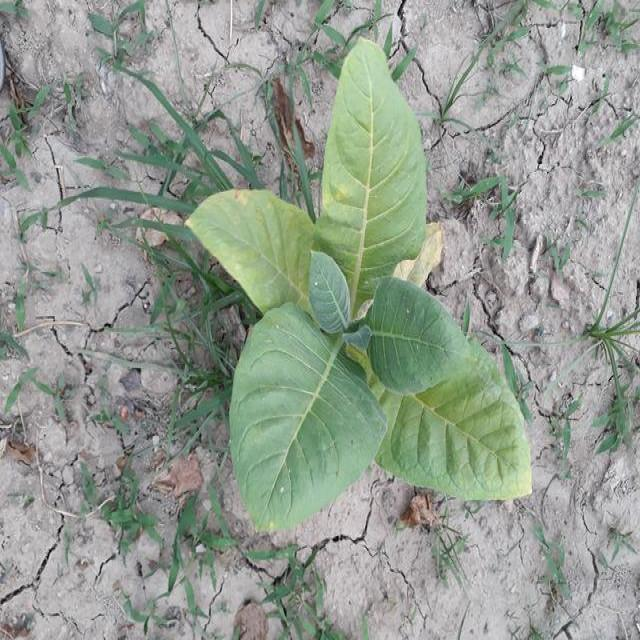crop: (190, 44, 532, 514)
